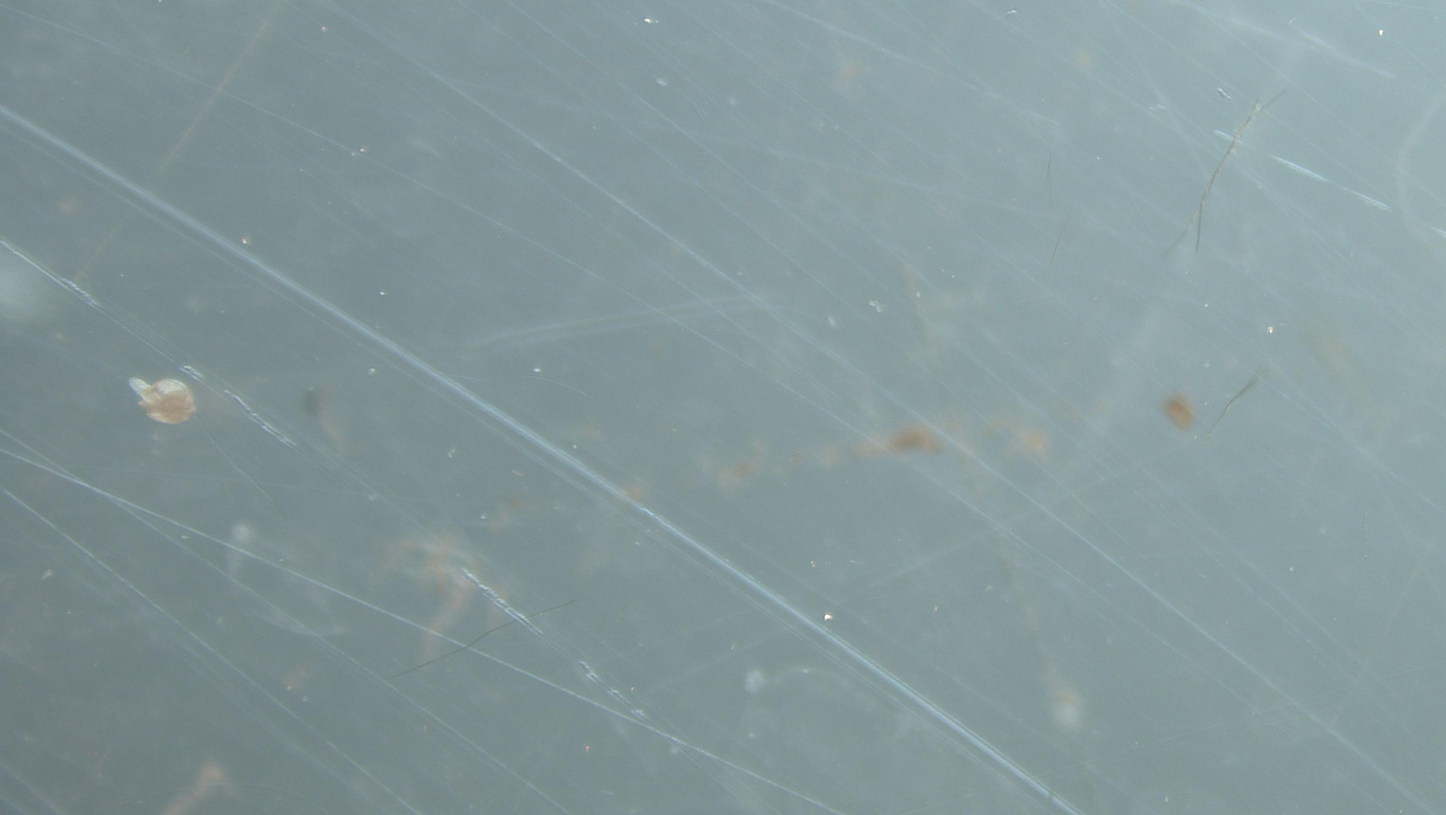live: (129, 378, 196, 424)
